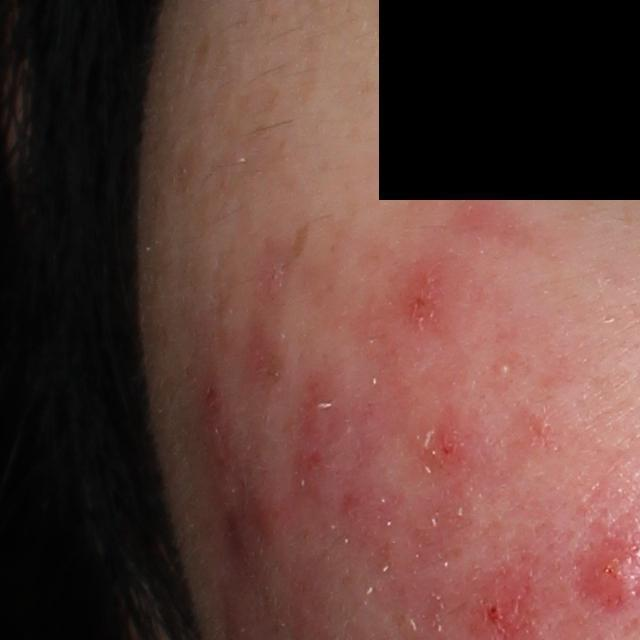melasma: (169, 137, 204, 198), (294, 35, 321, 112), (289, 219, 313, 261)
papule: (398, 266, 451, 324)
